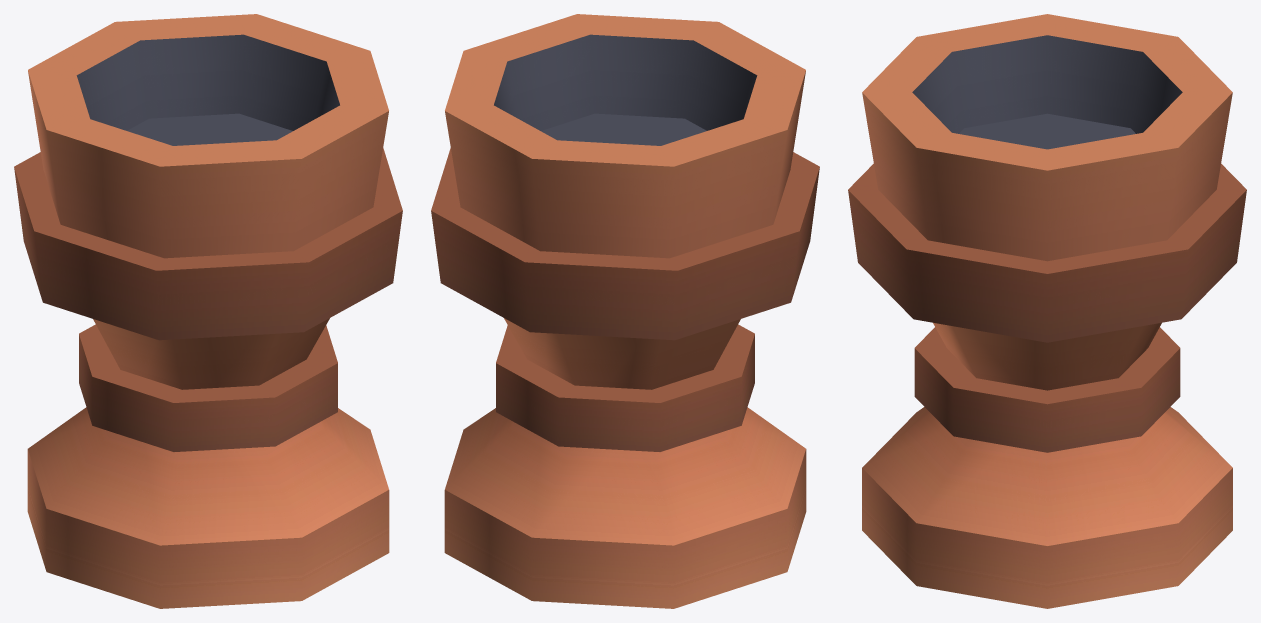
The model's file is kwanzaa-kikombe.glb.
3 views of the same model, side by side, from view 1: azimuth 30°, elevation 25°; view 2: azimuth 150°, elevation 25°; view 3: azimuth 270°, elevation 25° (orthographic).
Parts seen in each view (by area): view 1: kwanzaa-kikombe; view 2: kwanzaa-kikombe; view 3: kwanzaa-kikombe.
Boxes of the visible parts, box(x1,y1,x2,y2) form: kwanzaa-kikombe: box(14, 14, 402, 608); kwanzaa-kikombe: box(431, 14, 819, 608); kwanzaa-kikombe: box(848, 14, 1246, 608).
Bounding box in the file's own units: 0.2475 × 0.3 × 0.2475.
1 material, 1 textured.
